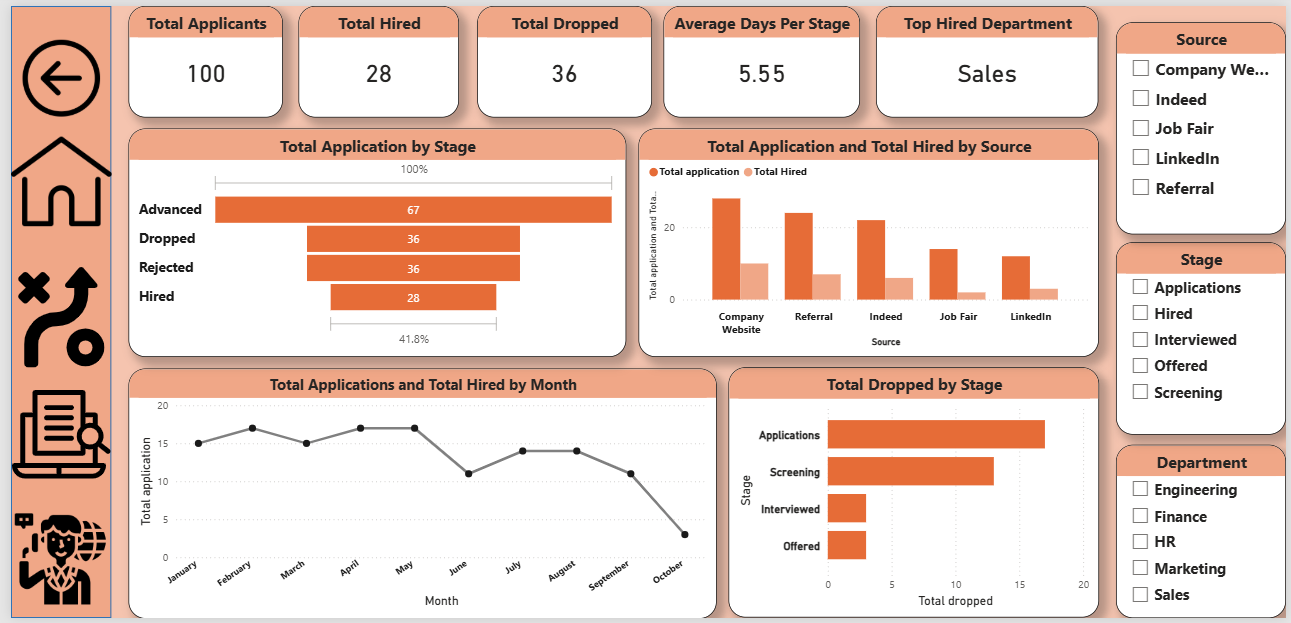

Layout of this report page (visuals, bound fields, positions):
{"tool":"powerbi","page":{"name":"Recruitment analysis","canvas":[1500,720],"ordinal":2},"visuals":[{"type":"shape","box":[0,0,118,720],"z":0,"group":"g1"},{"type":"lineChart","title":"Total Applications and Total Hired by Month","fields":{"Category":["recruitment_funnel_data.Date Of  Application.Variation.Date Hierarchy.Year","recruitment_funnel_data.Date Of  Application.Variation.Date Hierarchy.Quarter","recruitment_funnel_data.Date Of  Application.Variation.Date Hierarchy.Month","recruitment_funnel_data.Date Of  Application.Variation.Date Hierarchy.Day"],"Y":["New measures.Total application"]},"box":[138,426,692,294],"z":0},{"type":"card","title":"Total Applicants","fields":{"Values":["New measures.Total application"]},"box":[138.2,0,181.8,130.9],"z":1000},{"type":"card","title":"Total Hired","fields":{"Values":["New measures.Total Hired"]},"box":[338.2,0,189.1,130.9],"z":2000},{"type":"card","title":"Total Dropped","fields":{"Values":["New measures.Total dropped"]},"box":[549.1,0,205.5,130.9],"z":3000},{"type":"card","title":"Average Days Per Stage","fields":{"Values":["New measures.Avg days per stage"]},"box":[767.3,0,230.9,130.9],"z":4000},{"type":"card","title":"Top Hired Department","fields":{"Values":["New measures.Top Hired Department"]},"box":[1018.2,0,261.8,130.9],"z":5000},{"type":"clusteredBarChart","title":"Total Dropped by Stage","fields":{"Y":["New measures.Total dropped"],"Category":["recruitment_funnel_data.Stage"]},"box":[843.6,425.5,436.4,294.5],"z":6000},{"type":"funnel","title":"Total Application by Stage","fields":{"Category":["recruitment_funnel_data.Status Next Stage"],"Y":["New measures.Total application"]},"box":[138.2,143.6,585.5,269.1],"z":7000},{"type":"clusteredColumnChart","title":"Total Application and Total Hired by Source","fields":{"Y":["New measures.Total application","New measures.Total Hired"],"Category":["recruitment_funnel_data.Source"]},"box":[738.2,143.6,541.8,269.1],"z":8000},{"type":"slicer","title":"Department","fields":{"Values":["recruitment_funnel_data.Department"]},"box":[1300,516.4,200,203.6],"z":9000},{"type":"slicer","title":"Stage","fields":{"Values":["recruitment_funnel_data.Stage"]},"box":[1300,278.5,200,226.2],"z":10000},{"type":"slicer","title":"Source","fields":{"Values":["recruitment_funnel_data.Source"]},"box":[1300,18.5,200,249.2],"z":11000},{"type":"group","id":"g1","title":"Group 1","box":[0,0,118.5,720],"z":12000},{"type":"image","box":[0,146.2,118.5,121.5],"z":12001,"group":"g1"},{"type":"image","box":[0,427.7,118.5,152.3],"z":13000},{"type":"image","box":[0,303.1,118.5,126.2],"z":14000},{"type":"image","box":[0,40,118.5,90.8],"z":15000},{"type":"image","box":[4.4,580.9,107.4,139.7],"z":15001}]}

Visuals, with their boxes on the page's 1500x720 design canvas (x1, y1, x2, y2). These are canvas units, not pixel positions in the 1291x623 screenshot, which may show the page scaled, cropped or inside an application window:
shape: x1=0 y1=0 x2=118 y2=720
"Total Applications and Total Hired by Month" lineChart: x1=138 y1=426 x2=830 y2=720
"Total Applicants" card: x1=138 y1=0 x2=320 y2=131
"Total Hired" card: x1=338 y1=0 x2=527 y2=131
"Total Dropped" card: x1=549 y1=0 x2=755 y2=131
"Average Days Per Stage" card: x1=767 y1=0 x2=998 y2=131
"Top Hired Department" card: x1=1018 y1=0 x2=1280 y2=131
"Total Dropped by Stage" clusteredBarChart: x1=844 y1=426 x2=1280 y2=720
"Total Application by Stage" funnel: x1=138 y1=144 x2=724 y2=413
"Total Application and Total Hired by Source" clusteredColumnChart: x1=738 y1=144 x2=1280 y2=413
"Department" slicer: x1=1300 y1=516 x2=1500 y2=720
"Stage" slicer: x1=1300 y1=278 x2=1500 y2=505
"Source" slicer: x1=1300 y1=18 x2=1500 y2=268
"Group 1" group: x1=0 y1=0 x2=118 y2=720
image: x1=0 y1=146 x2=118 y2=268
image: x1=0 y1=428 x2=118 y2=580
image: x1=0 y1=303 x2=118 y2=429
image: x1=0 y1=40 x2=118 y2=131
image: x1=4 y1=581 x2=112 y2=721
